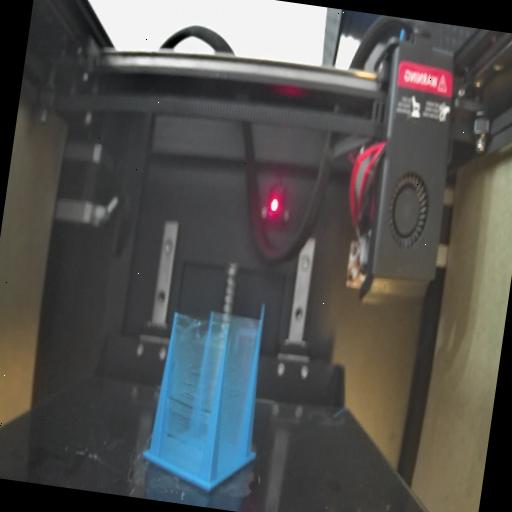stringing: (156, 312, 228, 472), (212, 318, 261, 484)
